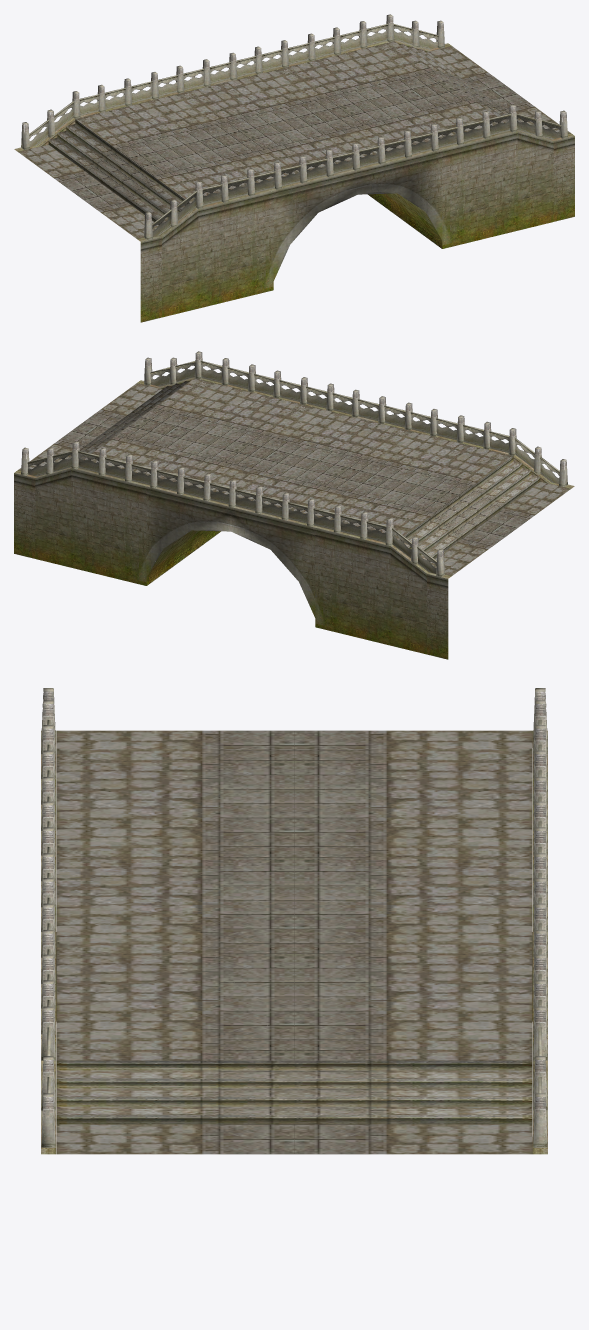
The model's file is cj2_brg.glb.
The picture shows the model from 3 angles, top to bottom: view 1: azimuth 30°, elevation 25°; view 2: azimuth 150°, elevation 25°; view 3: azimuth 270°, elevation 25°; orthographic projection. The views are drawn at different scales.
Visible parts, largest first — view 1: CJ2_brg_wall, CJ2_brg_floor, CJ2_brg_wall_al; view 2: CJ2_brg_wall, CJ2_brg_floor, CJ2_brg_wall_al; view 3: CJ2_brg_floor, CJ2_brg_wall, CJ2_brg_wall_al.
Part boxes in pixels (x1,y1,x2,y2): CJ2_brg_wall: (14, 14, 574, 322); CJ2_brg_floor: (18, 41, 570, 238); CJ2_brg_wall_al: (29, 24, 561, 236); CJ2_brg_wall: (14, 351, 574, 659); CJ2_brg_floor: (18, 378, 570, 575); CJ2_brg_wall_al: (27, 361, 559, 573); CJ2_brg_floor: (56, 730, 532, 1154); CJ2_brg_wall: (41, 688, 547, 1154); CJ2_brg_wall_al: (47, 720, 541, 1093).
Bounding box in the file's own units: 19.65 × 5.38 × 9.94.
3 materials, 3 textured.
